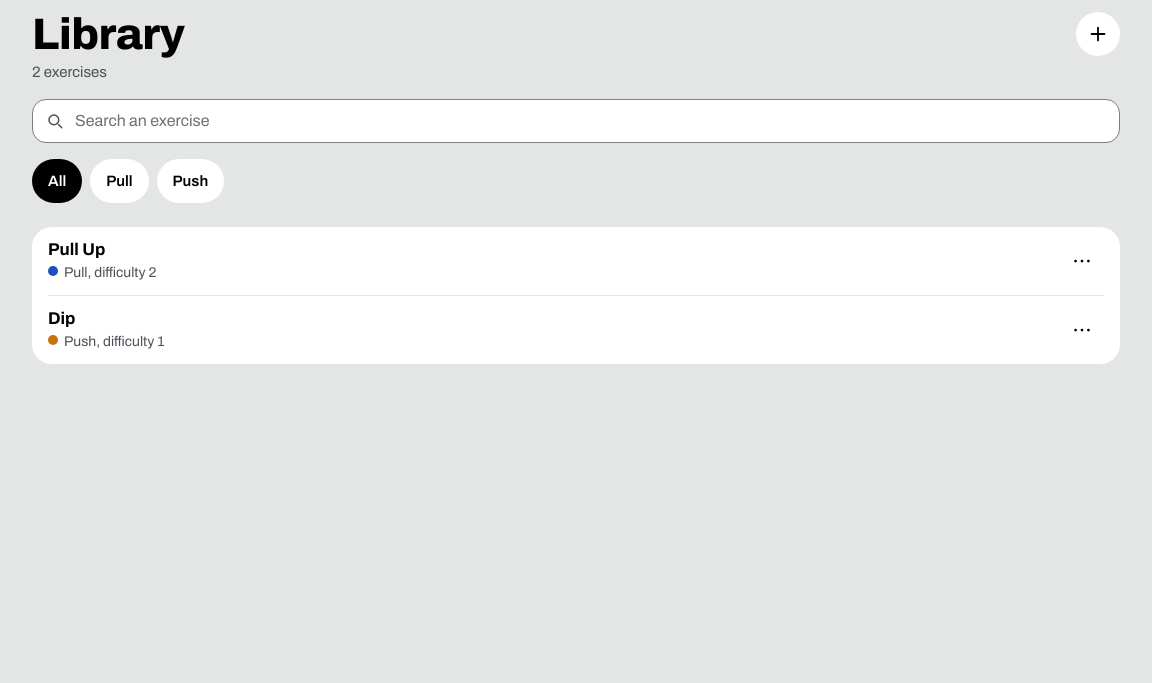
ExerciseLibrary › says it is creating, and takes no second press, while the write is out
Click the button named "Add an exercise".
click(1098, 34)  # box x1=1076 y1=12 x2=1120 y2=56
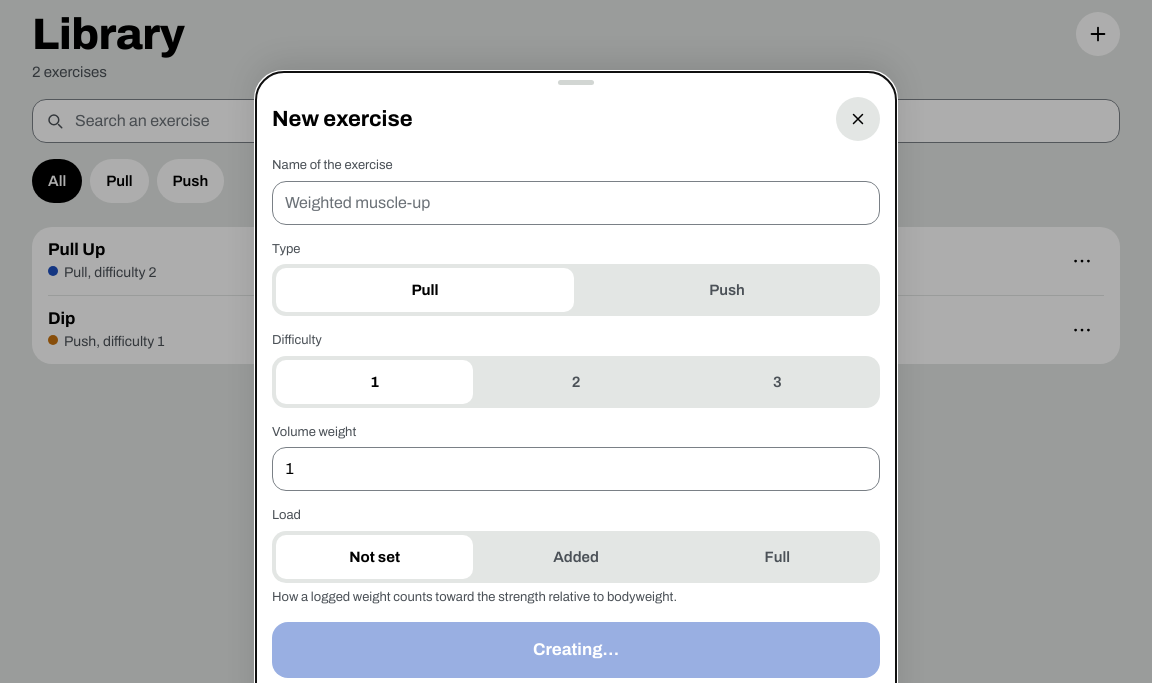
Result: the button "Creating…" is disabled at x1=272 y1=622 x2=880 y2=678
